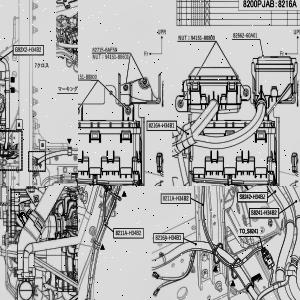PartNumber: (148, 122, 175, 130), (156, 234, 182, 242), (14, 46, 42, 53), (115, 230, 142, 236), (162, 195, 189, 201), (232, 32, 258, 38), (92, 46, 117, 52), (190, 34, 215, 40), (239, 194, 266, 199), (251, 210, 277, 215), (104, 54, 128, 59), (78, 73, 97, 79)
